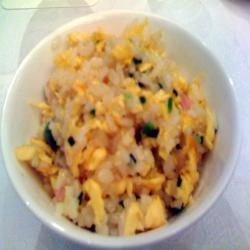rice: (29, 27, 205, 232)
